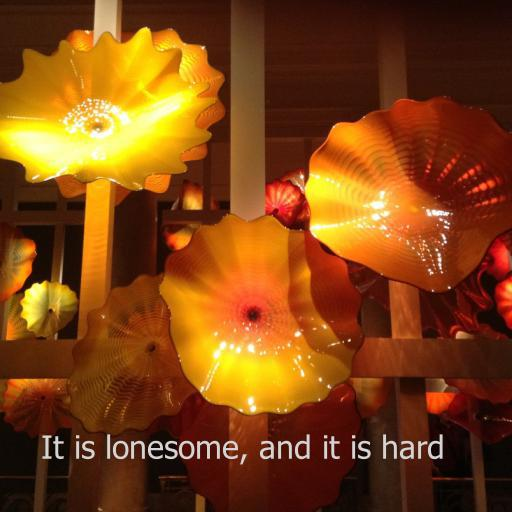Tahoma: (41, 434, 445, 465)
